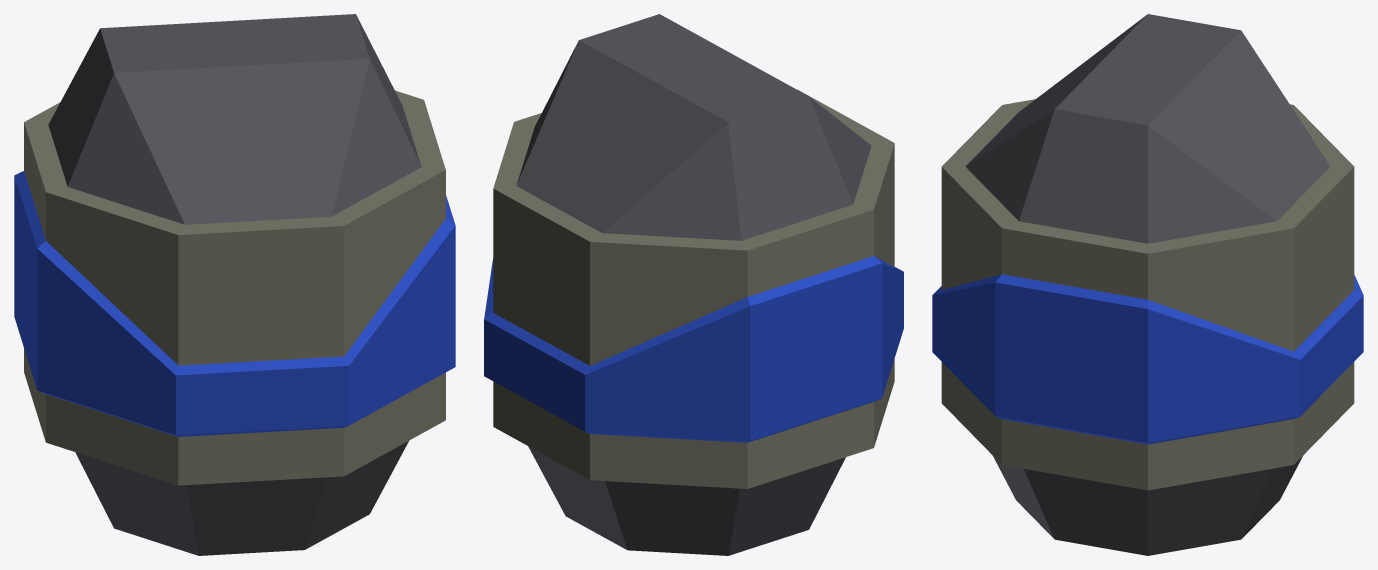
Rendered from LPSciFiCharacter_BarrelA.fbx.
The picture shows the model from 3 angles, left to right: view 1: azimuth 30°, elevation 25°; view 2: azimuth 150°, elevation 25°; view 3: azimuth 270°, elevation 25°; orthographic projection. The views are drawn at different scales.
Visible parts, largest first — view 1: BarrelA; view 2: BarrelA; view 3: BarrelA.
Boxes of the visible parts, x1,y1,x2,y2 form: BarrelA: (14,14,455,555); BarrelA: (484,14,903,555); BarrelA: (932,14,1363,555).
Size of the model in its own units: 62.72 by 69.04 by 62.72.
